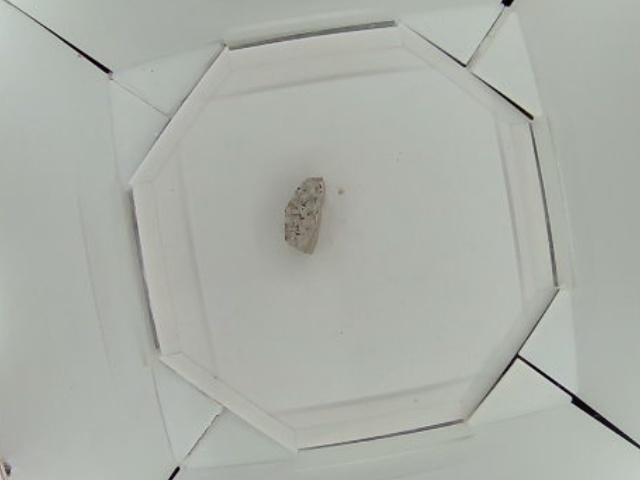China: (284, 175, 325, 251)
